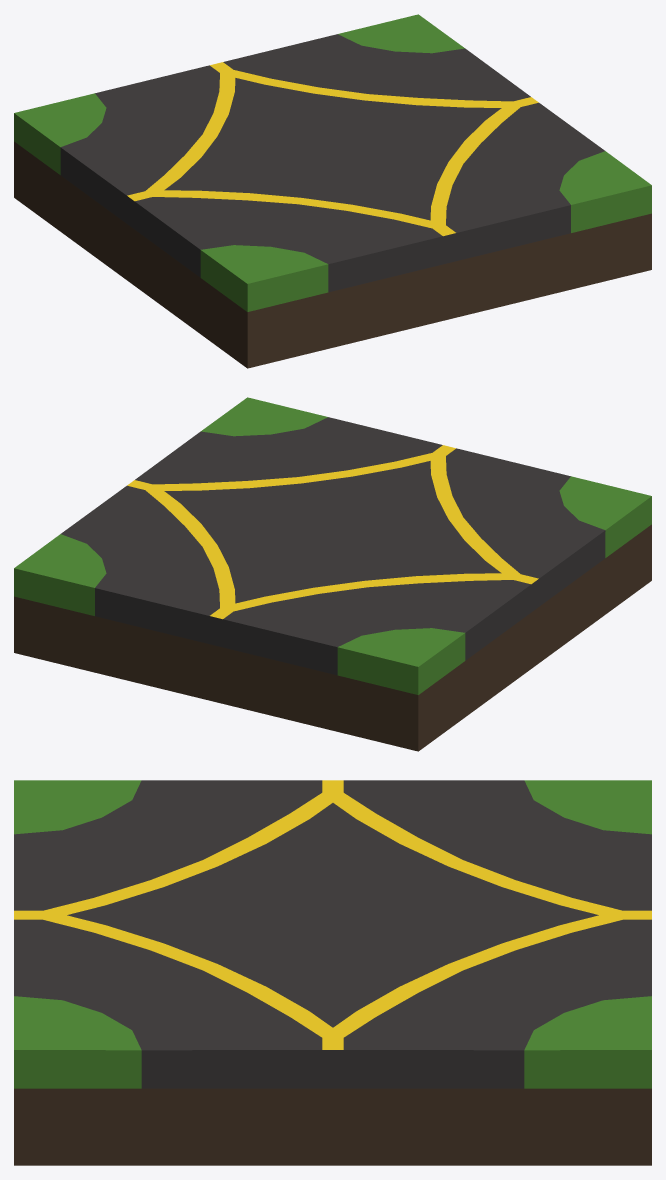
File: tiles_tile-runway-intersection.fbx
3 views of the same model, one above another, from view 1: azimuth 30°, elevation 25°; view 2: azimuth 150°, elevation 25°; view 3: azimuth 270°, elevation 25° (orthographic). The views are drawn at different scales.
Visible parts, largest first — view 1: tiles_tile_runway_intersection; view 2: tiles_tile_runway_intersection; view 3: tiles_tile_runway_intersection.
Part boxes in pixels (<box>): tiles_tile_runway_intersection: <box>14,14,651,368</box>; tiles_tile_runway_intersection: <box>14,397,651,751</box>; tiles_tile_runway_intersection: <box>14,780,651,1165</box>.
Size of the model in its own units: 200 by 39.96 by 200.
